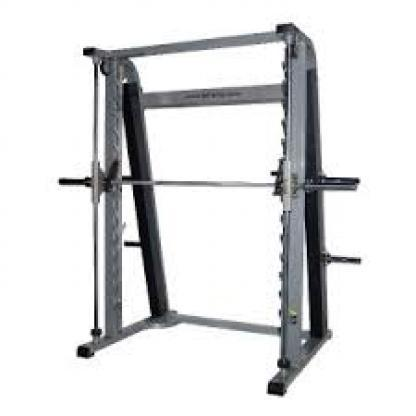smith machine: (59, 21, 362, 396)
